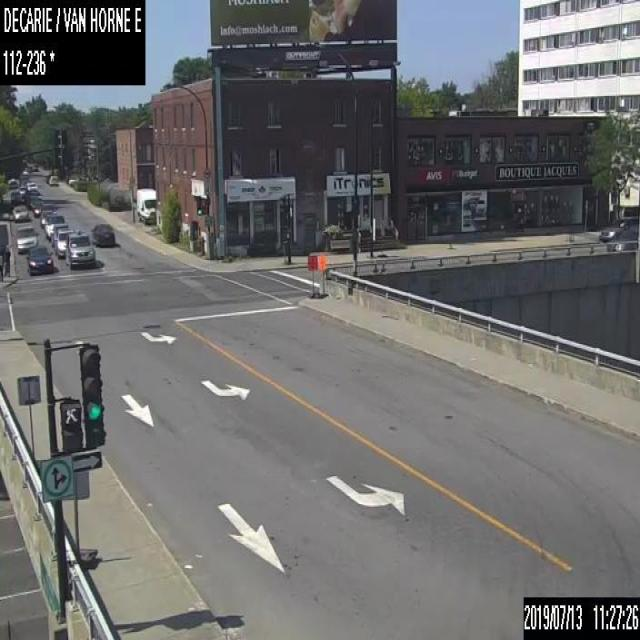construction: (62, 466, 97, 566), (15, 374, 45, 472), (306, 253, 316, 297), (317, 253, 327, 297)
pedestrian: (3, 241, 10, 275)
vehicle: (62, 228, 95, 269), (26, 244, 53, 274), (598, 220, 634, 240), (136, 187, 155, 224), (15, 223, 39, 252), (54, 227, 76, 258), (44, 210, 64, 240), (606, 231, 639, 249), (91, 222, 115, 246), (50, 223, 67, 246), (40, 208, 55, 228), (12, 203, 28, 220), (26, 194, 42, 210), (32, 200, 43, 215), (7, 177, 18, 188), (48, 174, 58, 185)
